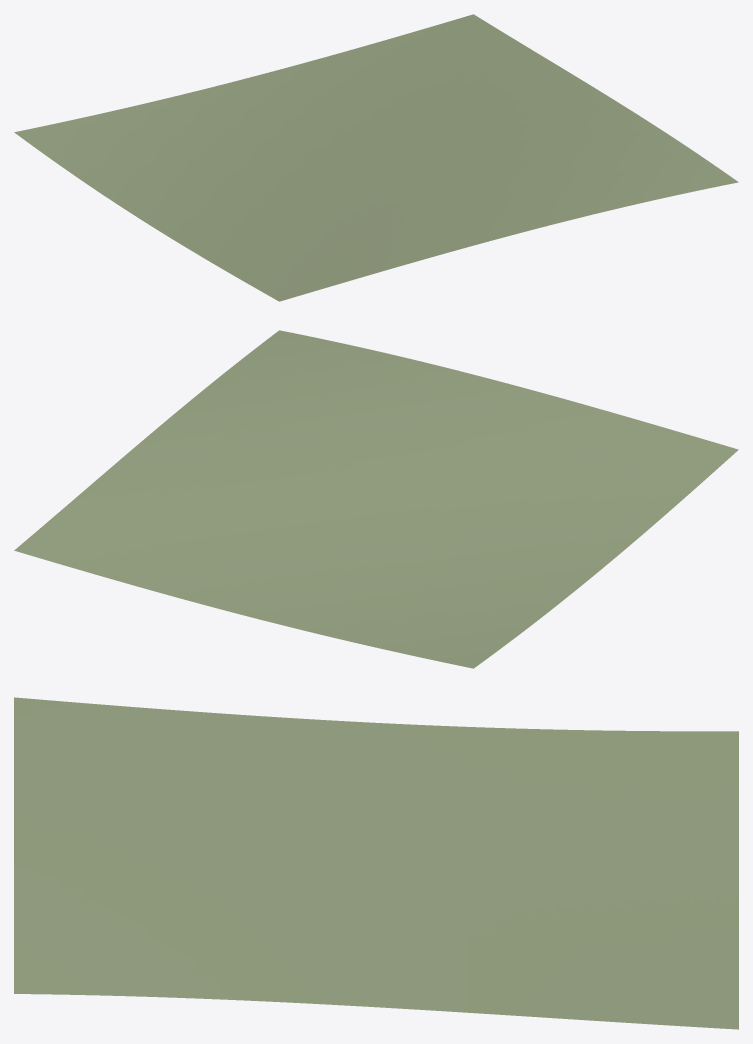
Rendered from alpine-6-13.glb.
3 renders of one model, top to bottom at view 1: azimuth 30°, elevation 25°; view 2: azimuth 150°, elevation 25°; view 3: azimuth 270°, elevation 25°, orthographic. The views are drawn at different scales.
Visible parts, largest first — view 1: alpine-6-13; view 2: alpine-6-13; view 3: alpine-6-13.
Part boxes in pixels (box(x1,y1,x2,y2)): alpine-6-13: box(14, 14, 738, 301); alpine-6-13: box(14, 330, 738, 668); alpine-6-13: box(14, 697, 738, 1029).
Bounding box in the file's own units: 256 × 20.63 × 256.
